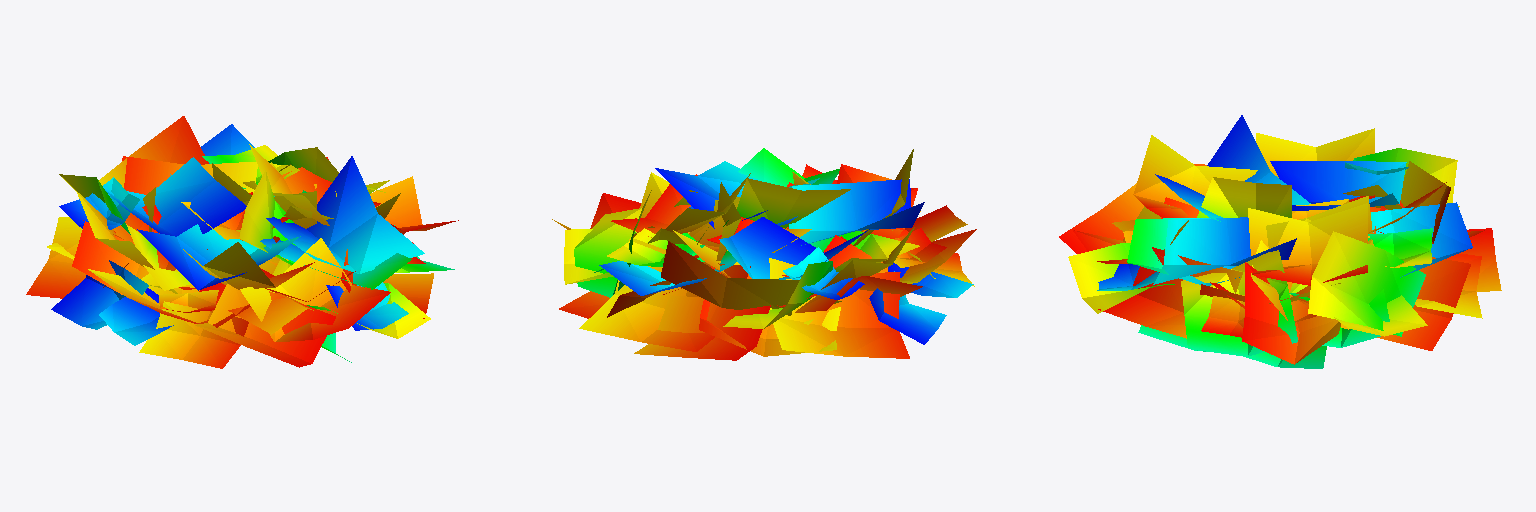
3 views of the same model, side by side, from view 1: azimuth 30°, elevation 25°; view 2: azimuth 150°, elevation 25°; view 3: azimuth 270°, elevation 25° (orthographic).
Visible parts, largest first — view 1: sponza_372; view 2: sponza_372; view 3: sponza_372.
Part boxes in pixels (bbox=[...]): sponza_372: bbox=[26, 116, 458, 368]; sponza_372: bbox=[552, 148, 976, 360]; sponza_372: bbox=[1059, 115, 1501, 368].
Size of the model in its own units: 9.1 by 3.8 by 9.37.
Materials: 1 (1 with a texture image).